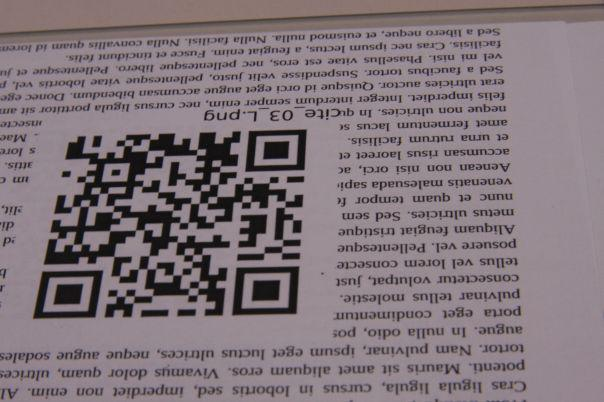qr_code: (32, 130, 309, 318)
